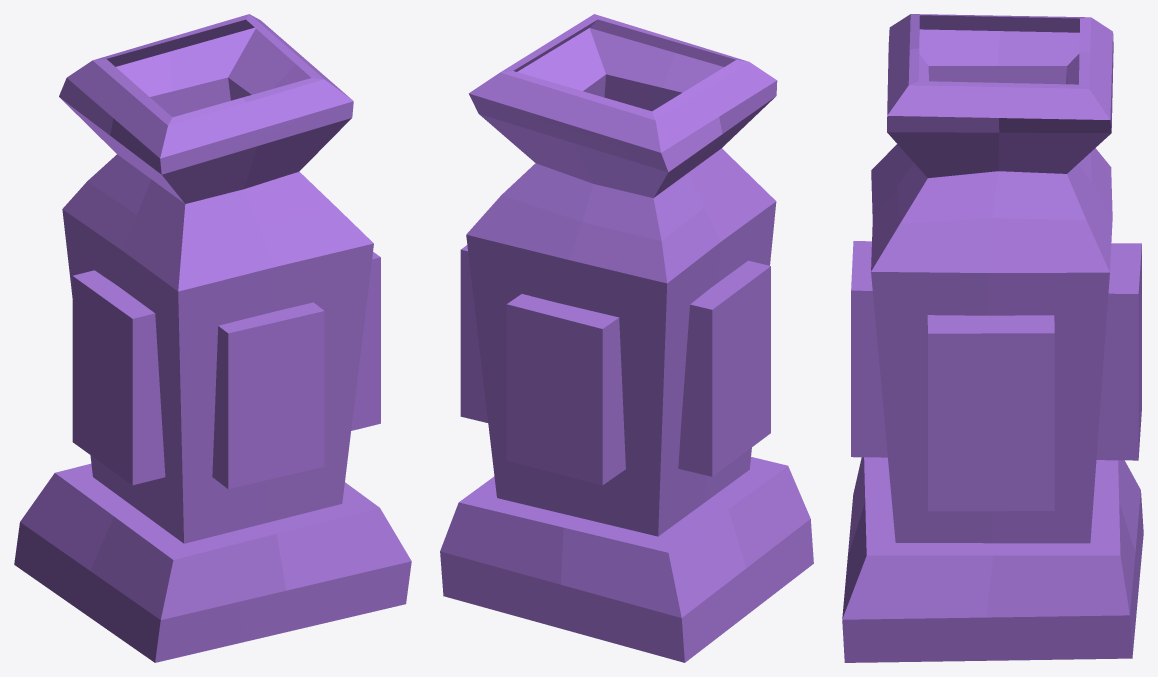
The model's file is ENV_Sculpture.fbx.
3 renders of one model, left to right at view 1: azimuth 30°, elevation 25°; view 2: azimuth 150°, elevation 25°; view 3: azimuth 270°, elevation 25°, orthographic. The views are drawn at different scales.
Visible parts, largest first — view 1: Cube.009; view 2: Cube.009; view 3: Cube.009.
Boxes of the visible parts, <box> form: Cube.009: <box>14,14,411,662</box>; Cube.009: <box>440,14,813,662</box>; Cube.009: <box>842,14,1143,662</box>.
Size of the model in its own units: 206 by 224 by 419.
